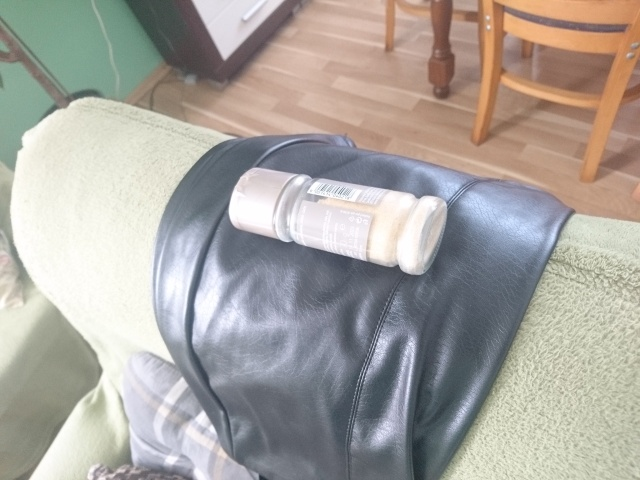Kotanyi Garlic Granules 70g: (225, 164, 450, 278)
